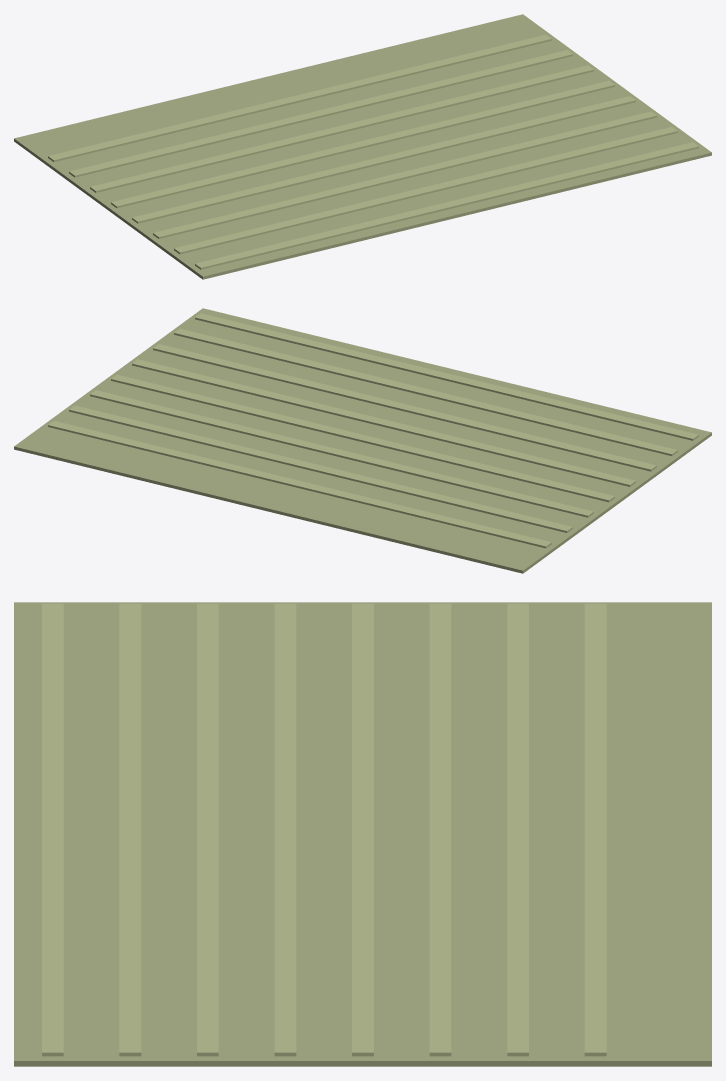
Rendered from crop-2.glb.
3 views of the same model, one above another, from view 1: azimuth 30°, elevation 25°; view 2: azimuth 150°, elevation 25°; view 3: azimuth 270°, elevation 25° (orthographic). The views are drawn at different scales.
Bounding box in the file's own units: 14 × 0.13 × 9.
